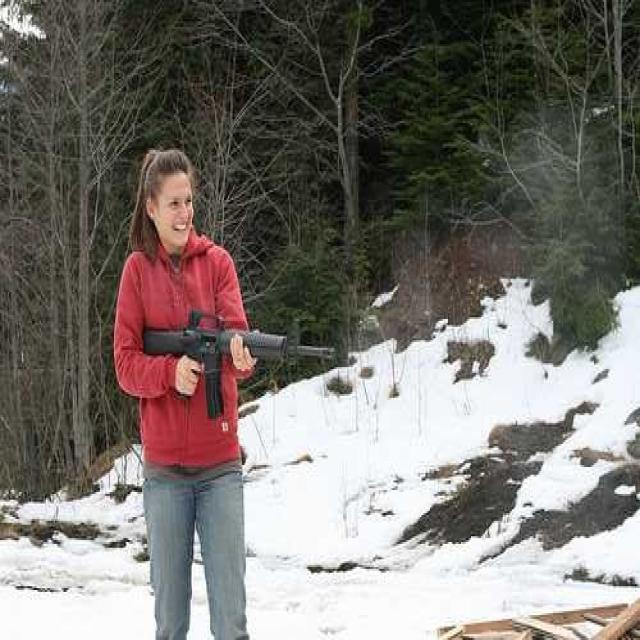heavyweapon: (118, 288, 356, 432)
